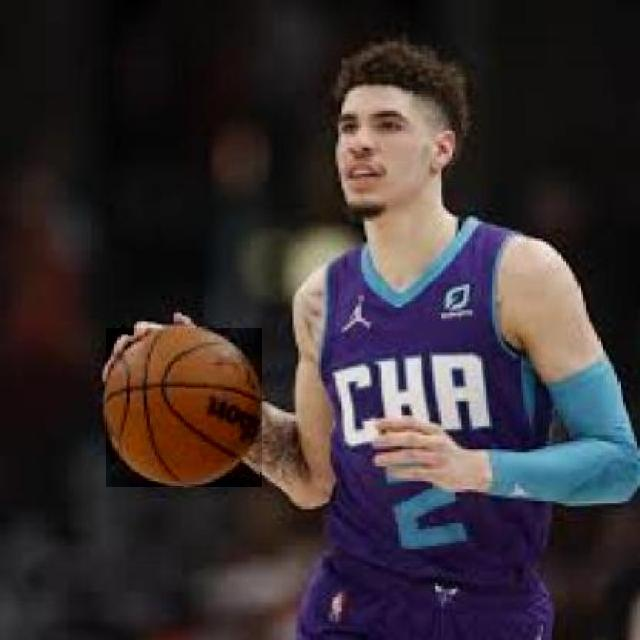Ball: (106, 328, 262, 487)
